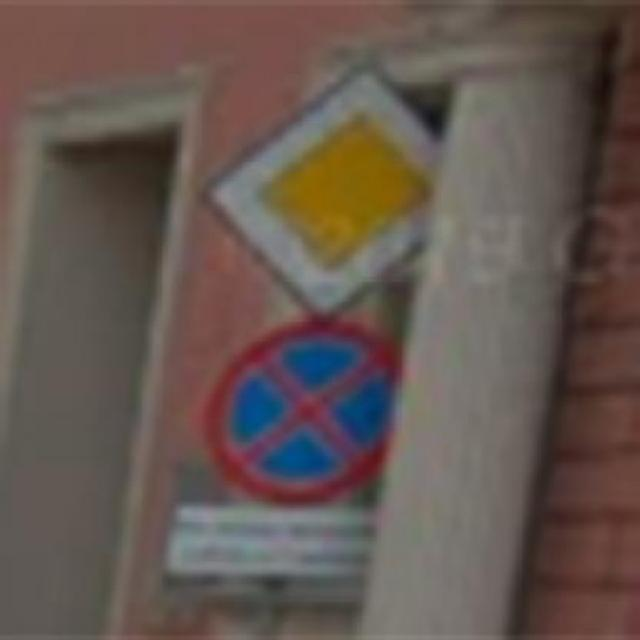Droga z pierwszenstwem: (192, 54, 446, 323)
Zakaz zatrzymywania sie: (198, 312, 400, 510)
